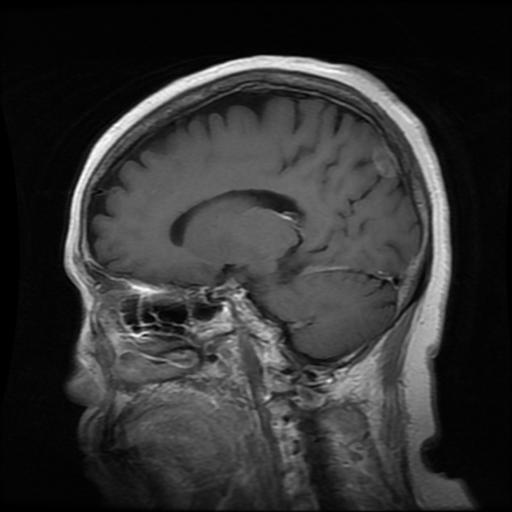Menigiomia_tumour: (372, 142, 398, 177)
